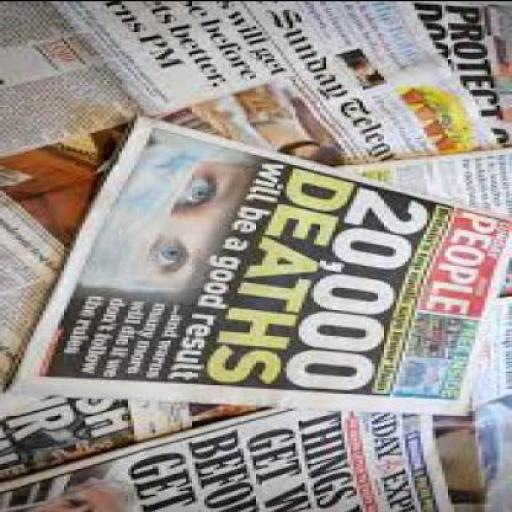paper: (2, 0, 511, 511), (6, 110, 511, 414), (3, 0, 406, 214), (3, 396, 454, 510), (332, 144, 511, 406), (270, 0, 499, 162), (2, 394, 280, 481), (411, 1, 511, 144)
